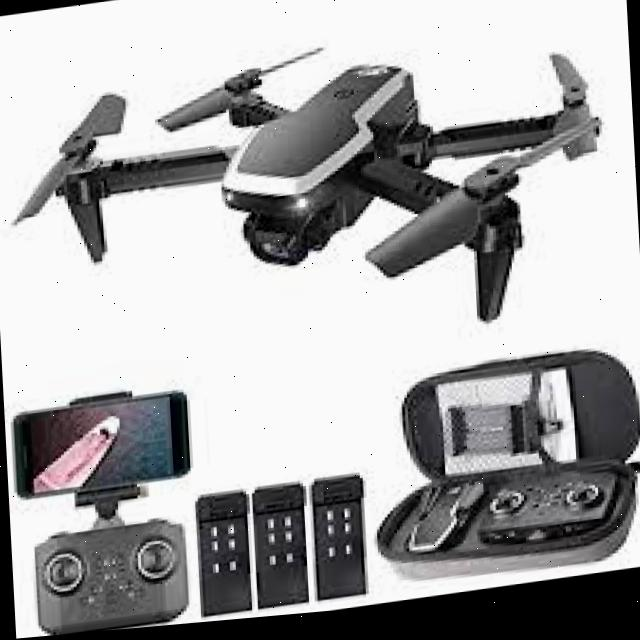drone: (5, 1, 625, 392)
